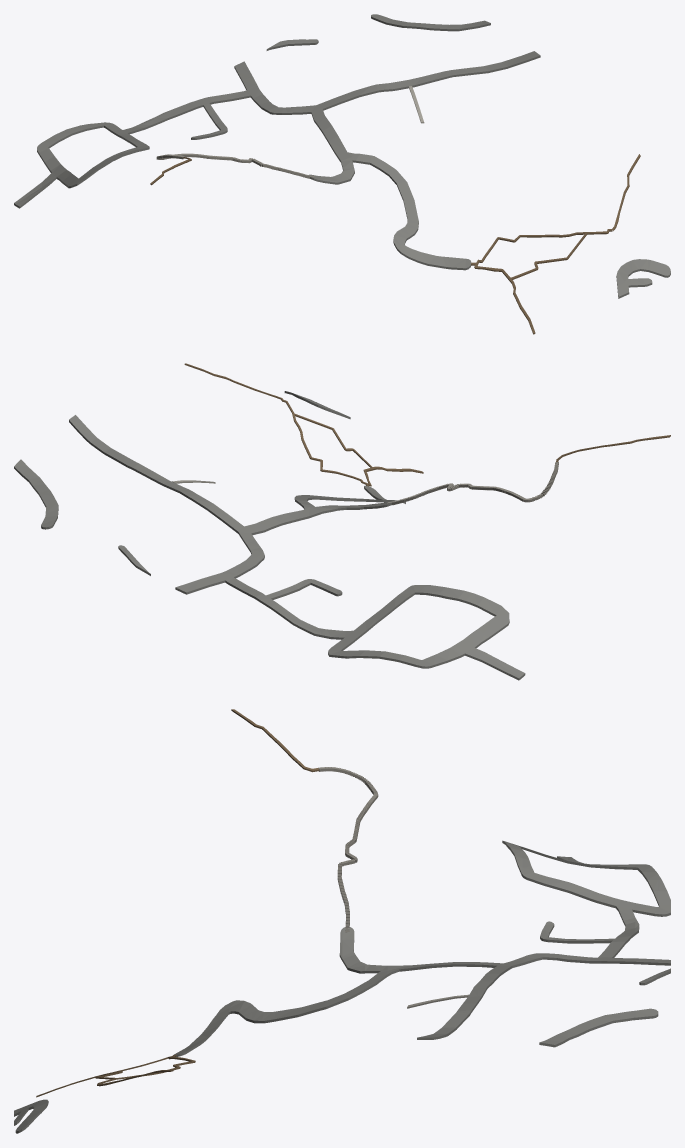
3 renders of one model, top to bottom at view 1: azimuth 30°, elevation 25°; view 2: azimuth 150°, elevation 25°; view 3: azimuth 270°, elevation 25°, orthographic. The views are drawn at different scales.
Bounding box in the file's own units: 293 × 101 × 292.
